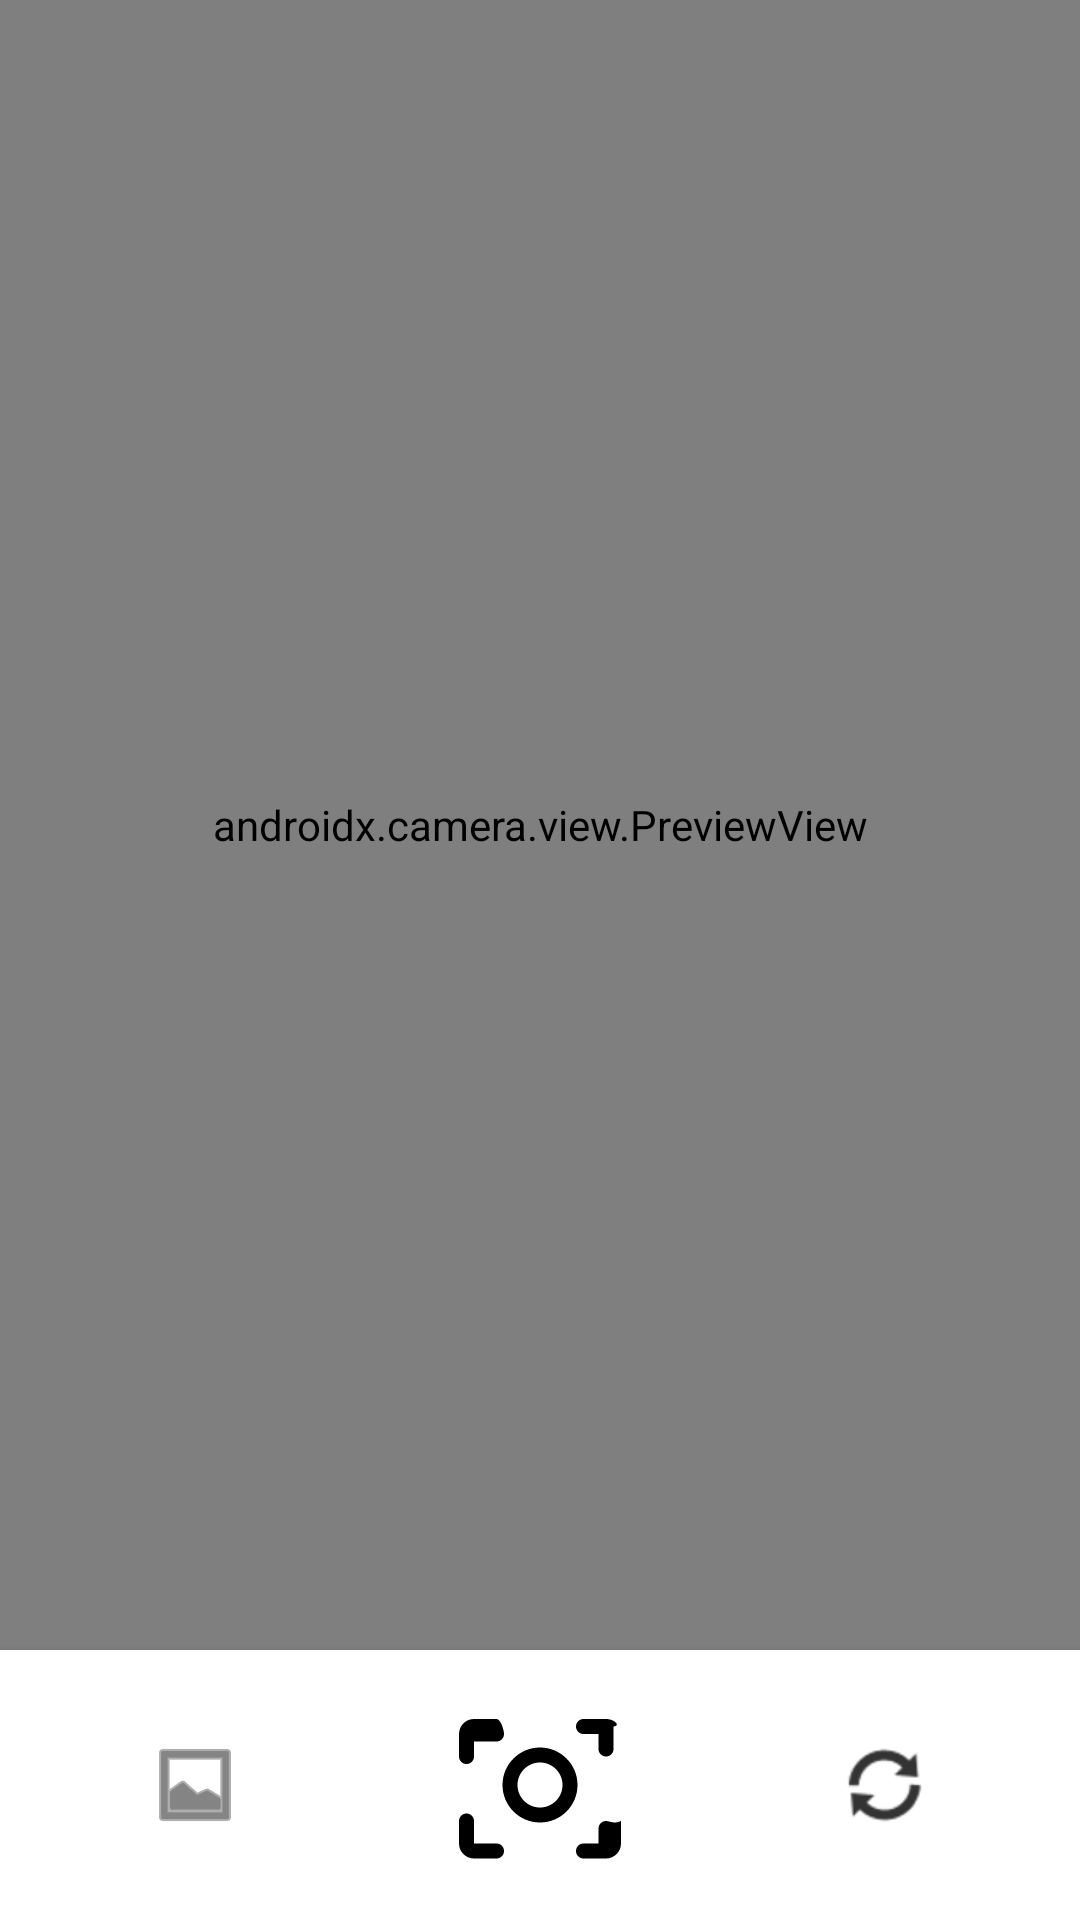

Icon click points for this 1080*1920 phone screenshot, format point (x, y):
gallery: point (195, 1785)
popup sync: point (885, 1785)
takepicture: point (540, 1789)
